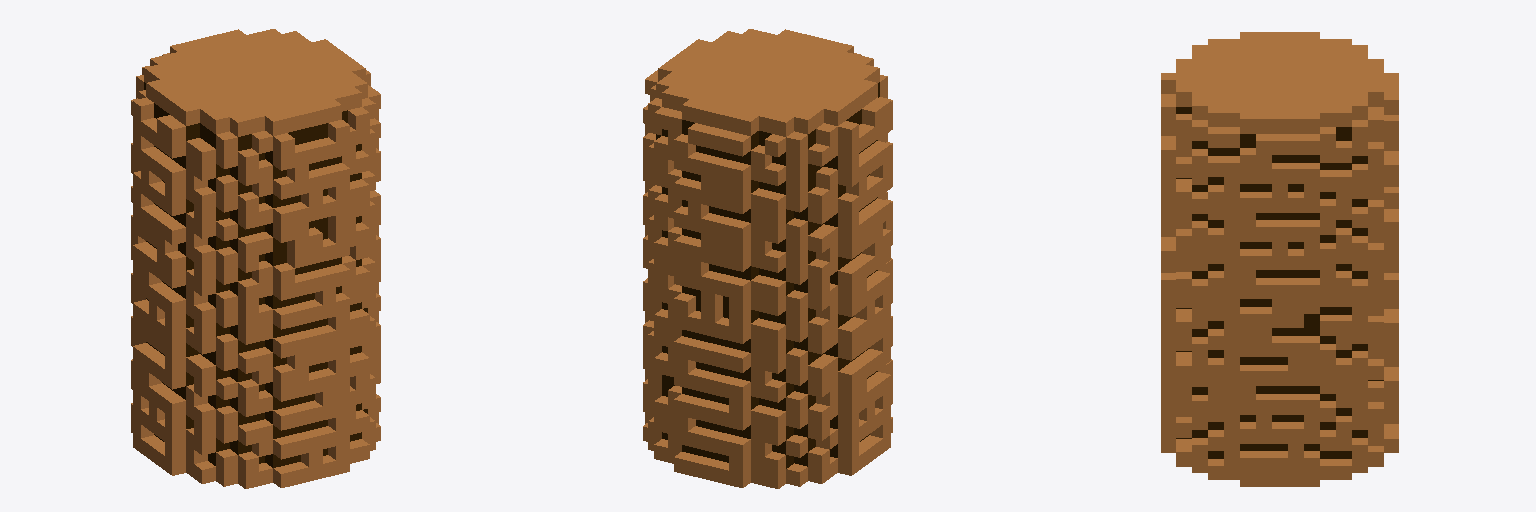
The picture shows the model from 3 angles: view 1: azimuth 30°, elevation 25°; view 2: azimuth 150°, elevation 25°; view 3: azimuth 270°, elevation 25°; orthographic projection.
Parts seen in each view (by area): view 1: object 1; view 2: object 1; view 3: object 1.
Boxes of the visible parts, x1=… form: object 1: x1=131, y1=29, x2=380, y2=488; object 1: x1=643, y1=29, x2=892, y2=488; object 1: x1=1161, y1=32, x2=1398, y2=486.
Bounding box in the file's own units: 1.5 × 2.5 × 1.5.
1 materials, 1 textured.